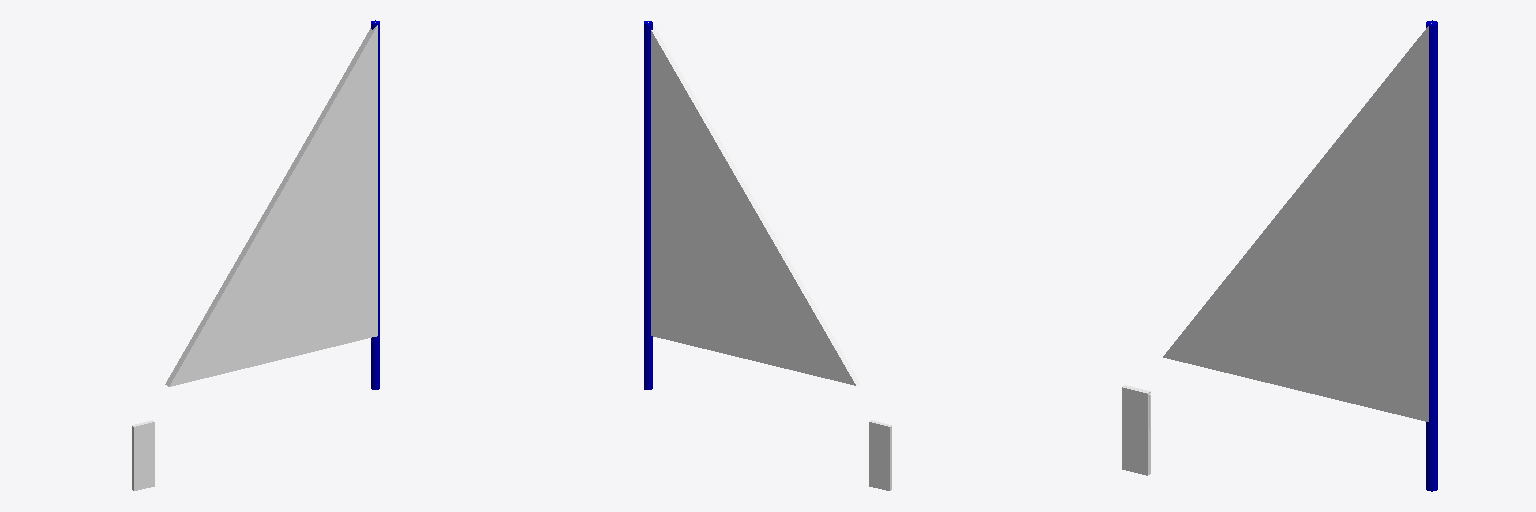
URDF robot description (sailboat):
<?xml version="1.0"?>
<robot name="sailboat">

	<material name="blue">
		<color rgba="0 0 0.8 1"/>
	</material>	

	<material name="white">
		<color rgba="1 1 1 1"/>
	</material>

<!--	Link created to get rid of the error: The root link base_link has an inertia specified 
	in the URDF, but KDL does not support a root link with an inertia.	-->
	
	<link name="dummy">
	</link>

	<link name="base_link">
		<visual>
			<geometry>
				<mesh filename="package://mmp/urdf/maxiMoop.dae"/>
			</geometry>				
			<material name="blue"/>
		</visual>
		<collision>
			<geometry>
				<mesh filename="package://mmp/urdf/maxiMoop.dae"/>
			</geometry>
		</collision>
		<inertial>
			<mass value="0.2"/>
			<inertia ixx="0.87" ixy="0.0" ixz="0.0" iyy="0.2417" iyz="0.0" izz="1.0417"/>
		</inertial>				
	</link>

	<link name="mast_link">
		<visual>
			<geometry>
				<cylinder length="4.25" radius="0.05"/>
			</geometry>
			<origin xyz="-1.25 0.225 1.5"/>
			<material name="blue"/>
		</visual>
		<collision>
			<geometry>
				<cylinder length="4.25" radius="0.05"/>
			</geometry>
			<origin xyz="-1.25 0.225 1.5"/>
			<material name="blue"/>
		</collision>
		<inertial>
			<mass value="1"/>
			<inertia ixx="0.087" ixy="0.0" ixz="0.0" iyy="0.02417" iyz="0.0" izz="0.10417"/>
		</inertial>				
	</link>

	<link name="sail_link">
		<visual>
			<geometry>
				<mesh filename="package://mmp/urdf/sail.dae"/>
			</geometry>
			<origin rpy="0 0 0" xyz="0 0 0"/>
			<material name="white"/>
		</visual>
		<collision>
			<geometry>
				<mesh filename="package://mmp/urdf/sail.dae"/>
			</geometry>
			<origin rpy="0 0 0" xyz="0 0 0"/>
			<material name="white"/>
		</collision>
		<inertial>
			<mass value="0.2"/>
			<inertia ixx="0.0174" ixy="0.0" ixz="0.0" iyy="0.04834" iyz="0.0" izz="0.20834"/>
		</inertial>				
	</link>


	<link name="rudder_holder_link">
		<visual>
			<geometry>
				<cylinder length="0.325" radius="0.015"/>
			</geometry>
			<origin xyz="-3.65 0.225 0"/>
			<material name="white"/>
		</visual>
		<collision>
			<geometry>
				<cylinder length="0.325" radius="0.015"/>
			</geometry>
			<origin xyz="-3.65 0.225 0"/>
			<material name="white"/>
		</collision>				
		<inertial>
			<mass value="0.2"/>
			<inertia ixx="0.0174" ixy="0.0" ixz="0.0" iyy="0.04834" iyz="0.0" izz="0.20834"/>
		</inertial>				
	</link>

	<link name="rudder_link">
		<visual>
			<geometry>
				<box size="0.05 0.25 0.75"/>
			</geometry>
			<origin rpy="0 0 0" xyz="0 -0.125 0"/>
			<material name="white"/>	
		</visual>
		<collision>
			<geometry>
				<box size="0.05 0.25 0.75"/>
			</geometry>
			<origin rpy="0 0 0" xyz="0 -0.125 0"/>
			<material name="white"/>	
		</collision>
		<inertial>
			<mass value="0.2"/>
			<inertia ixx="0.0435" ixy="0.0" ixz="0.0" iyy="0.012085" iyz="0.0" izz="0.05285"/>
		</inertial>
	</link>

<!-- **************** JOINT ELEMENTS *****************-->

<!--	Joint created to get rid of the error: The root link base_link has an inertia specified in
	 the URDF, but KDL does not support a root link with an inertia.	-->
	<joint name="dummy_joint" type="fixed">
     		<parent link="dummy"/>
    		<child link="base_link"/>
  	 </joint>

	<joint name="base_mast_joint" type="fixed">
		<parent link="base_link"/>
		<child link="mast_link"/>
		<origin xyz="0.3 0 0.55"/>
	</joint>

	<joint name="mast_sail_joint" type="revolute">
		<axis xyz="0 1 0"/>
		<limit effort="1000.0" lower="-1.5708" upper="1.5708" velocity="0.5"/>
		<origin rpy="1.5708 0 0" xyz="-1.25 0.25 0"/>
		<parent link="mast_link"/>
		<child link="sail_link"/>
	</joint>

	<joint name="base_rudder_joint" type="fixed">
		<parent link="base_link"/>
		<child link="rudder_holder_link"/>
		<origin xyz="0 0 0"/>
	</joint>

	<joint name="holder_rudder_joint" type="revolute">
		<axis xyz="0 0 1"/>
		<limit effort="1000.0" lower="-1.5708" upper="1.5708" velocity="0.5"/>
		<origin rpy="0 -3.1416 -1.5708" xyz="-3.65 0.225 -0.2"/>
		<parent link="rudder_holder_link"/>
		<child link="rudder_link"/>
	</joint>
	
<!-- **************** TRANSMISSION ELEMENTS *****************-->
	<transmission name="sail_tran">
		<type>transmission_interface/SimpleTransmission</type>
		<joint name="mast_sail_joint">
			<hardwareInterface>hardware_interface/PositionJointInterface</hardwareInterface>
		</joint>
		<actuator name="sail_motor">
			<mechanicalReduction>1</mechanicalReduction>
		</actuator>
	</transmission>

	<transmission name="rudder_tran">
		<type>transmission_interface/SimpleTransmission</type>
		<joint name="holder_rudder_joint">
			<hardwareInterface>hardware_interface/PositionJointInterface</hardwareInterface>
		</joint>
		<actuator name="rudder_motor">
			<mechanicalReduction>1</mechanicalReduction>
		</actuator>
	</transmission>

<!-- **************** GAZEBO ELEMENTS *****************-->
	<gazebo reference="base_link">
		<material>Gazebo/Blue</material>
	</gazebo>
	<gazebo reference="mast_link">
		<material>Gazebo/Blue</material>
	</gazebo>
	<gazebo reference="rudder_holder_link">
		<material>Gazebo/Blue</material>
	</gazebo>
	<gazebo reference="sail_link">
		<material>Gazebo/White</material>
		<mu1>0.2</mu1>
		<mu2>0.2</mu2>
	</gazebo>
	<gazebo reference="rudder_link">
		<material>Gazebo/White</material>
		<mu1>0.2</mu1>
		<mu2>0.2</mu2>
	</gazebo>


	<gazebo>
		<plugin name="gazebo_ros_control" filename="libgazebo_ros_control.so">
			<robotNamespace>/boat</robotNamespace>
		</plugin>
	</gazebo>

<!-- **************** BUOYANCY PLUGINS *****************-->
<!--    	<plugin filename="libbuoyancy_gazebo_plugin.so" name="BuoyancyPlugin">-->
<!--      		<wave_model>ocean_waves</wave_model>-->
<!--     		<fluid_density>1000</fluid_density>-->
<!--      		<fluid_level>0.0</fluid_level>-->
<!--      		<linear_drag>1000.0</linear_drag>-->
<!--      		<angular_drag>200.0</angular_drag>-->
<!--      		<buoyancy name="buoyancy_base">-->
<!--        		<link_name>base_link</link_name>-->
<!--        		<geometry>-->
<!--          			<box size="1 0.5 0.2"/>-->
<!--        		</geometry>-->
<!--      		</buoyancy>-->
<!--    	</plugin>	-->
<!---->
<!--	<plugin filename="libbuoyancy_gazebo_plugin.so" name="BuoyancyPlugin">-->
<!--	        <fluid_density>1000</fluid_density>-->
<!--	        <fluid_level>0.0</fluid_level>-->
<!--	        <linear_drag>1000.0</linear_drag>-->
<!--	        <angular_drag>200.0</angular_drag>-->
<!--	        <buoyancy name="buoyancy_base">-->
<!--			<link_name>base_link</link_name>-->
<!--			<geometry>-->
<!--				<box size="1 0.5 0.2"/>-->
<!--			</geometry>	-->
<!--		</buoyancy>-->
<!--		<buoyancy name="buoyancy_mast">-->
<!--                        <link_name>mast_link</link_name>-->
<!--                        <geometry>-->
<!--                                <cylinder length="1" radius="0.025"/>-->
<!--                        </geometry>-->
<!--                </buoyancy>-->
<!--	</plugin>-->
<!---->
<!--	<plugin filename="libbuoyancy_gazebo_plugin.so" name="BuoyancyPlugin">-->
<!--                <fluid_density>1000</fluid_density>-->
<!--                <fluid_level>0.0</fluid_level>-->
<!--                <linear_drag>1000.0</linear_drag>-->
<!--                <angular_drag>200.0</angular_drag>-->
<!--                <buoyancy name="buoyancy_mast">-->
<!--                        <link_name>mast_link</link_name>-->
<!--                        <geometry>-->
<!--                                <cylinder length="1" radius="0.025"/>-->
<!--                        </geometry>-->
<!--                </buoyancy>-->
<!--                <buoyancy name="buoyancy_sail">-->
<!--                        <link_name>sail_link</link_name>-->
<!--                        <geometry>-->
<!--                                <box size="0.025 0.7 0.9"/>-->
<!--                        </geometry>-->
<!--                </buoyancy>-->
<!--        </plugin>-->

<!--	<plugin filename="libbuoyancy_gazebo_plugin.so" name="BuoyancyPlugin">-->
<!--                <fluid_density>1000</fluid_density>-->
<!--                <fluid_level>0.0</fluid_level>-->
<!--                <linear_drag>1000.0</linear_drag>-->
<!--                <angular_drag>200.0</angular_drag>-->
<!--                <buoyancy name="buoyancy_base">-->
<!--                        <link_name>base_link<link_name/>-->
<!--                        <geometry>-->
<!--                                <box size="1 0.5 0.2"/>-->
<!--                        </geometry>-->
<!--                </buoyancy>-->
<!--                <buoyancy name="buoyancy_holder">-->
<!--                        <link_name>rudder_holder_link</link_name>-->
<!--                        <geometry>-->
<!--                                <cylinder length="0.2" radius="0.015"/>-->
<!--                        </geometry>-->
<!--                </buoyancy>-->
<!--    	</plugin>-->
<!--		-->
<!--	<plugin filename="libbuoyancy_gazebo_plugin.so" name="BuoyancyPlugin">-->
<!--                <fluid_density>1000</fluid_density>-->
<!--                <fluid_level>0.0</fluid_level>-->
<!--                <linear_drag>1000.0</linear_drag>-->
<!--                <angular_drag>200.0</angular_drag>-->
<!--                <buoyancy name="buoyancy_holder">-->
<!--                        <link_name>rudder_holder_link</link_name>-->
<!--                        <geometry>-->
<!--                                <cylinder length="0.2" radius="0.015"/>-->
<!--                        </geometry>-->
<!--                </buoyancy>-->
<!--		<buoyancy name="buoyancy_rudder">-->
<!--                        <link_name>rudder_link<link_name/>-->
<!--                        <geometry>-->
<!--                                <box size="0.025 0.7 0.9"/>-->
<!--                        </geometry>-->
<!--                </buoyancy>-->
<!--    	</plugin>-->

	<!--Gazebo Plugin for simulating WAM-V dynamics-->
	<gazebo>
		<plugin filename="libusv_gazebo_dynamics_plugin.so" name="usv_dynamics_wamv_dynamics_plugin">
		<bodyName>base_link</bodyName>
		<!-- Must be same as the ocean model!-->
		<waterLevel>0</waterLevel>
		<waterDensity>997.8</waterDensity>
		<!-- Added mass -->
		<xDotU>0.0</xDotU>
		<yDotV>0.0</yDotV>
		<nDotR>0.0</nDotR>
		<!-- Linear and quadratic drag -->
		<xU>51.3</xU>
		<xUU>72.4</xUU>
		<yV>40.0</yV>
		<yVV>0.0</yVV>
		<zW>500.0</zW>
		<kP>50.0</kP>
		<mQ>50.0</mQ>
		<nR>400.0</nR>
		<nRR>0.0</nRR>
		<!-- General dimensions -->
		<!--<boatArea>2.2</boatArea>-->
		<hullRadius>0.213</hullRadius>
		<boatWidth>2.4</boatWidth>
		<boatLength>4.9</boatLength>
		<!-- Length discretization, AKA, "N" -->
		<length_n>2</length_n>
		<!-- Wave model -->
		<wave_model>ocean_waves</wave_model>
		</plugin>
	</gazebo>
 	<!--Gazebo Plugin for simulating WAM-V dynamics-->
    		<plugin filename="libusv_gazebo_wind_plugin.so" name="wind">
      		<!-- models to be effected by the wind -->
      		<wind_obj>
        		<name>wamv</name>
        		<link_name>base_link</link_name>
        		<coeff_vector>0.5 0.5 0.33</coeff_vector>
      		</wind_obj>
      		<wind_obj>
		        <name>robotx_light_buoy</name>
		        <link_name>base_link</link_name>
		        <coeff_vector>0.5 0.5 0.33</coeff_vector>
      		</wind_obj>
		<!-- Wind -->
		<wind_direction>270</wind_direction>
		<!-- in degrees -->
		<wind_mean_velocity>10</wind_mean_velocity>
		<var_wind_gain_constants>100</var_wind_gain_constants>
		<var_wind_time_constants>5</var_wind_time_constants>
		<random_seed></random_seed>
		<!-- set to zero/empty to randomize -->
		<update_rate>10</update_rate>
    		</plugin>

</robot>

--- What the picture shows (computed from the rendered views, not written in the file) ---
Views: 3 orthographic renders of the robot side by side, from view 1: azimuth 30°, elevation 25°; view 2: azimuth 150°, elevation 25°; view 3: azimuth 330°, elevation 25°.
Robot: sailboat — 6 links, 5 joints (2 revolute, 3 fixed); root link dummy; default pose: every joint at zero.
Links seen in each view (by area): view 1: sail_link, rudder_link, mast_link; view 2: sail_link, mast_link, rudder_link; view 3: sail_link, mast_link, rudder_link.
Boxes of the visible links, box(x1,y1,x2,y2) form: sail_link: box(165, 22, 377, 386); rudder_link: box(132, 420, 154, 490); mast_link: box(371, 20, 379, 389); sail_link: box(648, 22, 859, 385); mast_link: box(644, 21, 652, 389); rudder_link: box(869, 420, 891, 490); sail_link: box(1163, 23, 1431, 421); mast_link: box(1426, 20, 1437, 491); rudder_link: box(1122, 385, 1150, 475).
Size in the robot's own frame: 3 by 0.1065 by 4.75 metres.
1 mesh visuals loaded from 2 distinct referenced files (1 Collada DAE); not drawn: 1 (reference not matched to a file when rendering).